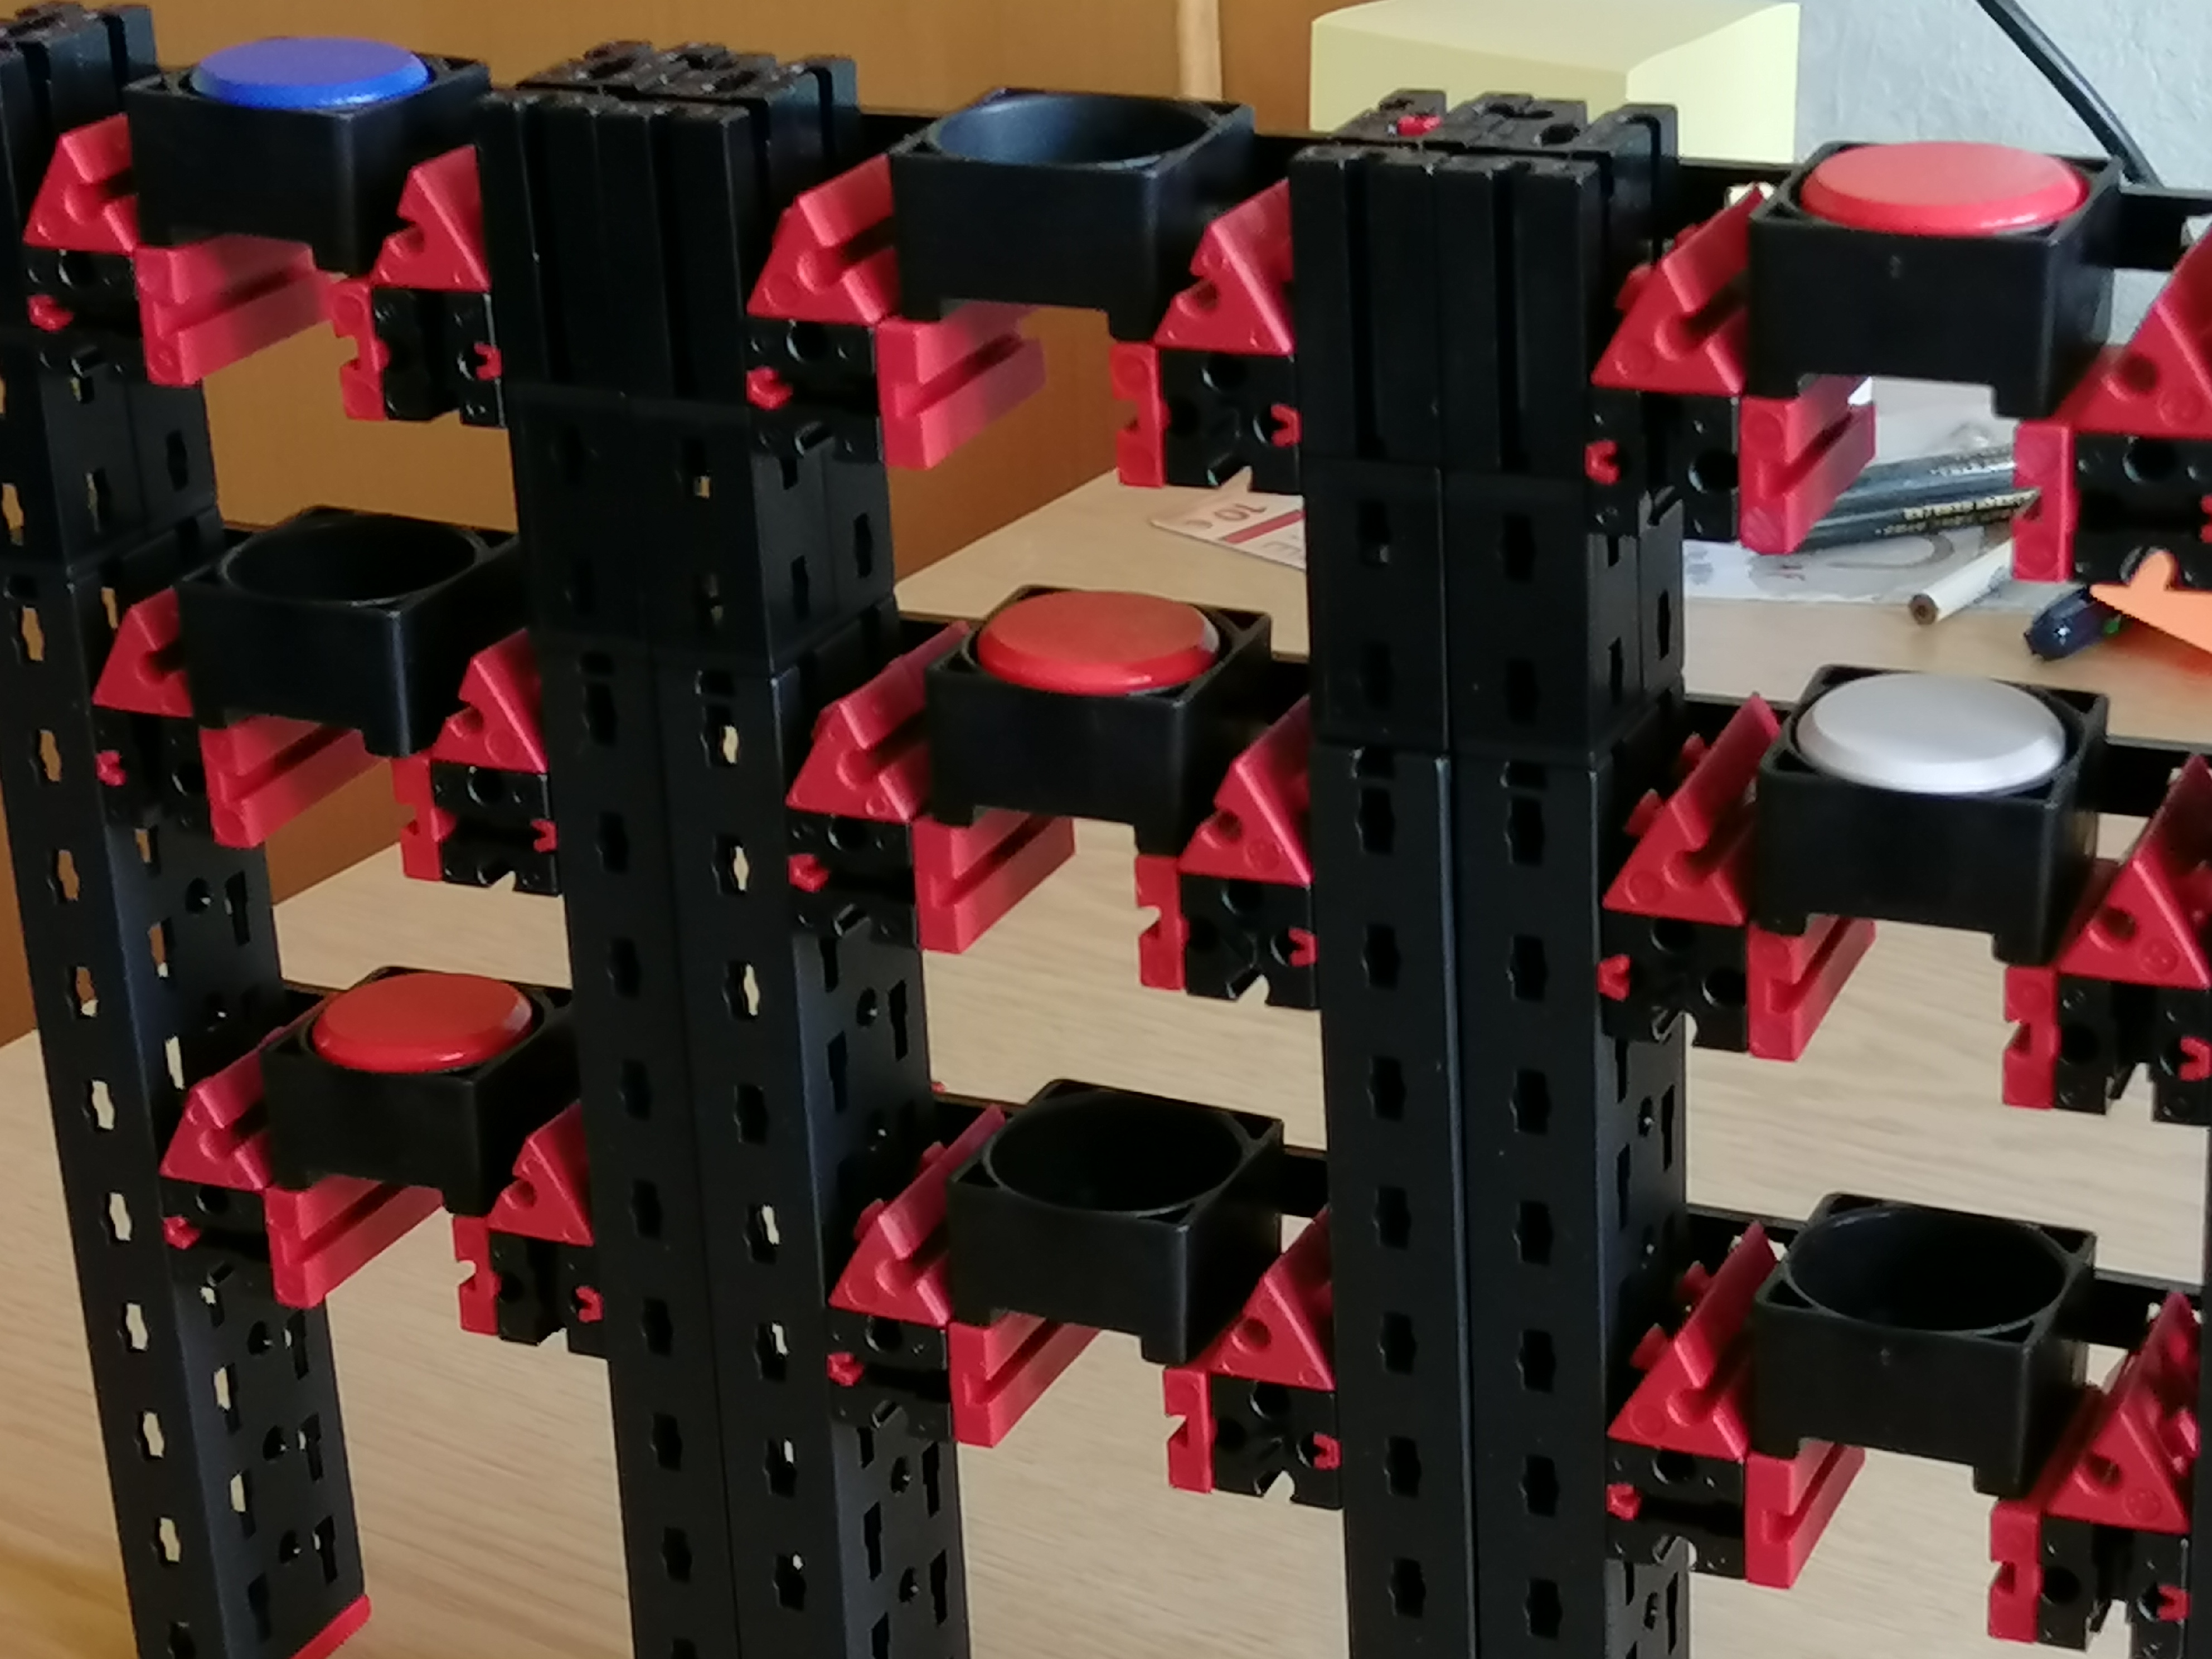Behaelter: (1771, 1176, 2069, 1464), (1773, 662, 2083, 934), (1764, 141, 2081, 403), (934, 580, 1217, 835), (954, 1094, 1240, 1330), (907, 99, 1176, 328), (188, 521, 455, 735), (131, 58, 388, 261), (265, 974, 521, 1176)
WerkStueck: (1817, 667, 2062, 793), (1808, 143, 2088, 237), (981, 592, 1217, 690), (315, 974, 536, 1068), (185, 40, 435, 110)
